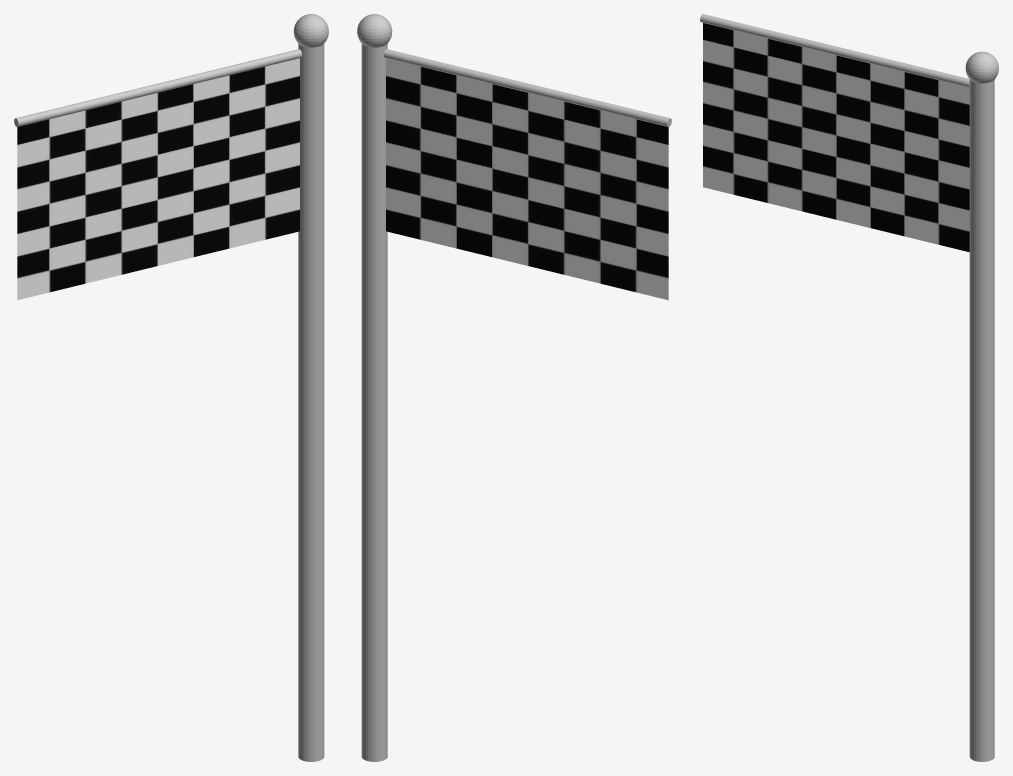
Rendered from Flag.fbx.
3 renders of one model, left to right at view 1: azimuth 30°, elevation 25°; view 2: azimuth 150°, elevation 25°; view 3: azimuth 330°, elevation 25°, orthographic. The views are drawn at different scales.
Visible parts, largest first — view 1: Flag, Pole, Cylinder; view 2: Flag, Pole, Cylinder; view 3: Flag, Pole, Cylinder.
Boxes of the visible parts, left/top/right/bottom form: Flag: left=17, top=58, right=299, bottom=300; Pole: left=293, top=14, right=328, bottom=761; Cylinder: left=14, top=49, right=302, bottom=126; Flag: left=386, top=58, right=668, bottom=300; Pole: left=357, top=14, right=392, bottom=761; Cylinder: left=383, top=49, right=671, bottom=126; Flag: left=703, top=23, right=969, bottom=252; Pole: left=965, top=51, right=998, bottom=761; Cylinder: left=700, top=14, right=969, bottom=87.
Bounding box in the file's own units: 136 × 310 × 13.37.
